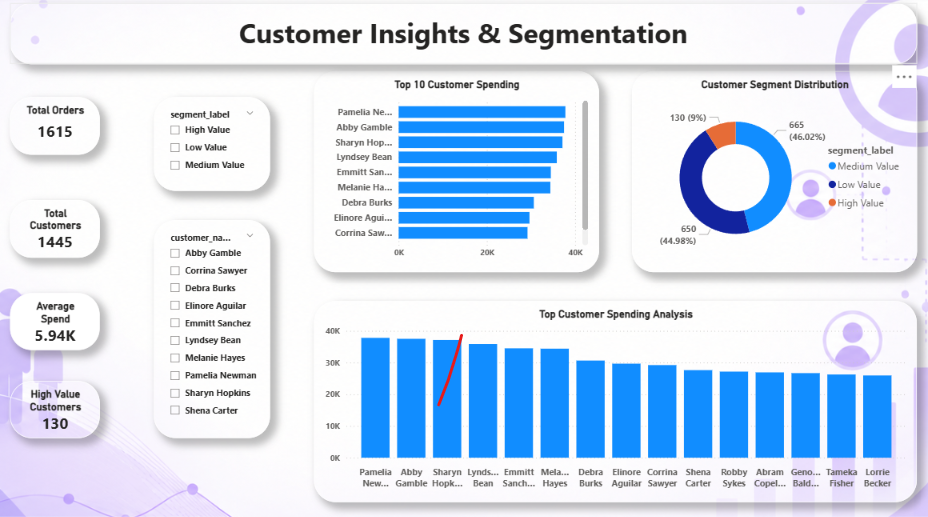

Layout of this report page (visuals, bound fields, positions):
{"tool":"powerbi","page":{"name":"Customer Analytics","canvas":[1280,720],"ordinal":1},"visuals":[{"type":"card","title":"Total Orders","fields":{"Values":["customer_segments.Total Orders"]},"box":[13.7,138.6,123.5,79.6],"z":0},{"type":"card","title":"Total Customers","fields":{"Values":["customer_segments.Total Customers"]},"box":[13.7,279.9,123.5,79.6],"z":1000},{"type":"card","title":"Average Spend","fields":{"Values":["customer_segments.Average Customer Spend Amount"]},"box":[13.7,407.5,123.5,78.2],"z":2000},{"type":"card","title":"High Value Customers","fields":{"Values":["customer_segments.High Value Customers"]},"box":[13.7,528.3,123.5,78.2],"z":3000},{"type":"donutChart","title":"Customer Segment Distribution","fields":{"Category":["customer_segments.segment_label"],"Y":["CountNonNull(customer_segments.customer_id)"]},"box":[867.2,102.9,391.1,275.8],"z":4000},{"type":"clusteredBarChart","title":"Top 10 Customer Spending","fields":{"Category":["customer_segments.customer_name"],"Y":["customer_segments.Average Customer Spend"]},"box":[430.9,102.9,391.1,275.8],"z":5000},{"type":"columnChart","title":"Top Customer Spending Analysis","fields":{"Category":["customer_segments.customer_name"],"Y":["customer_segments.Average Customer Spend"]},"box":[430.9,418.5,827.4,275.8],"z":6000},{"type":"slicer","fields":{"Values":["customer_segments.segment_label"]},"box":[211.3,138.6,159.2,129],"z":7000},{"type":"slicer","fields":{"Values":["customer_segments.customer_name"]},"box":[211.3,307.4,159.2,299.1],"z":8000},{"type":"textbox","box":[13.7,9.6,1244.6,83.7],"z":9000}]}

Visuals, with their boxes in screenshot pixels (x1, y1, x2, y2), scaled from the page's 1280x720 canvas onto the 928x517 screenshot:
"Total Orders" card: [x1=10, y1=100, x2=99, y2=157]
"Total Customers" card: [x1=10, y1=201, x2=99, y2=258]
"Average Spend" card: [x1=10, y1=293, x2=99, y2=349]
"High Value Customers" card: [x1=10, y1=379, x2=99, y2=436]
"Customer Segment Distribution" donutChart: [x1=629, y1=74, x2=912, y2=272]
"Top 10 Customer Spending" clusteredBarChart: [x1=312, y1=74, x2=596, y2=272]
"Top Customer Spending Analysis" columnChart: [x1=312, y1=301, x2=912, y2=499]
slicer - customer_segments.segment_label: [x1=153, y1=100, x2=269, y2=192]
slicer - customer_segments.customer_name: [x1=153, y1=221, x2=269, y2=436]
textbox: [x1=10, y1=7, x2=912, y2=67]
